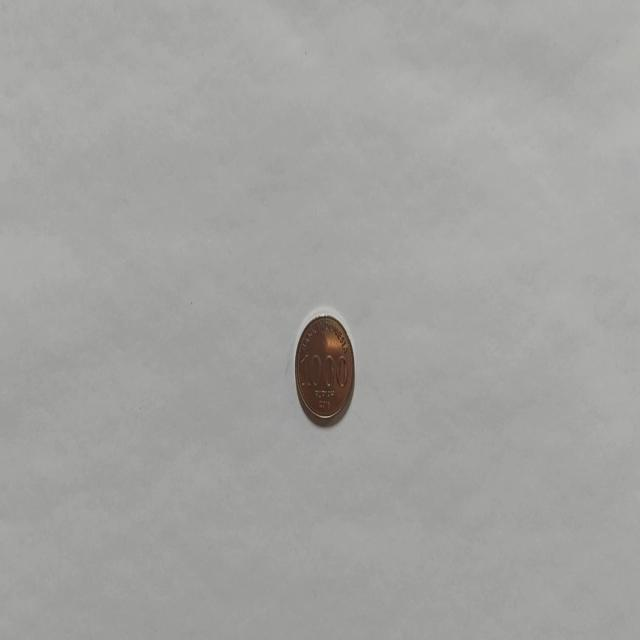seribu rupiah koin: (294, 309, 356, 427)
